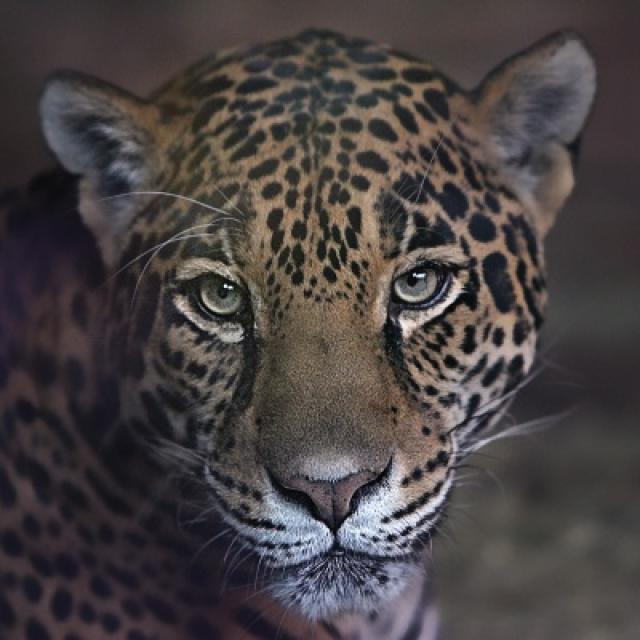Jaguar: (0, 29, 598, 638)
